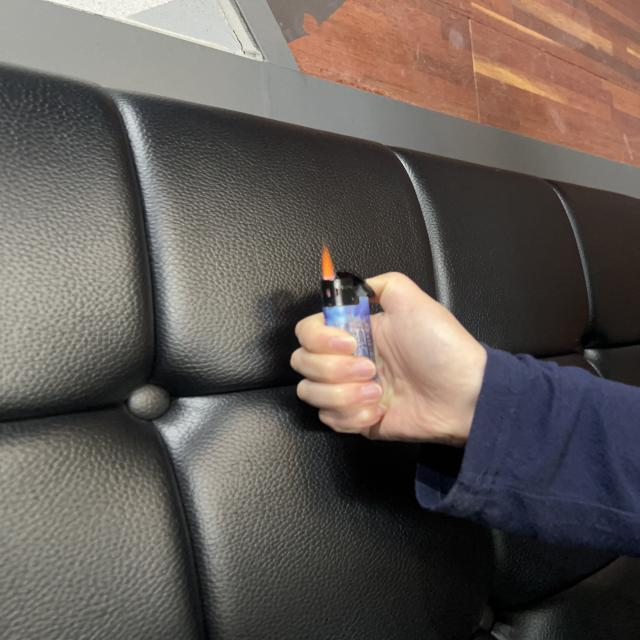fire: (320, 247, 336, 281)
